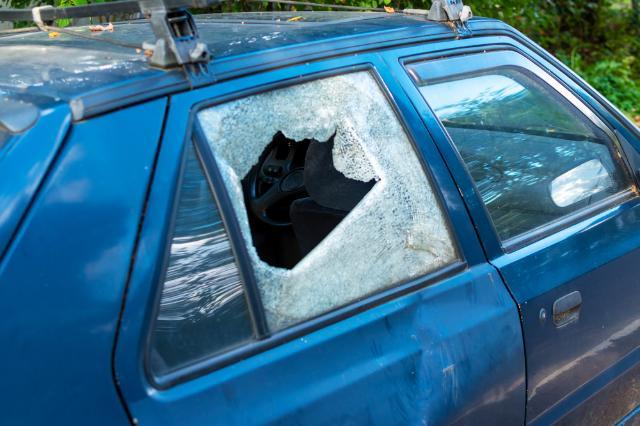dent: (382, 290, 442, 426)
glass shatter: (195, 69, 461, 335)
